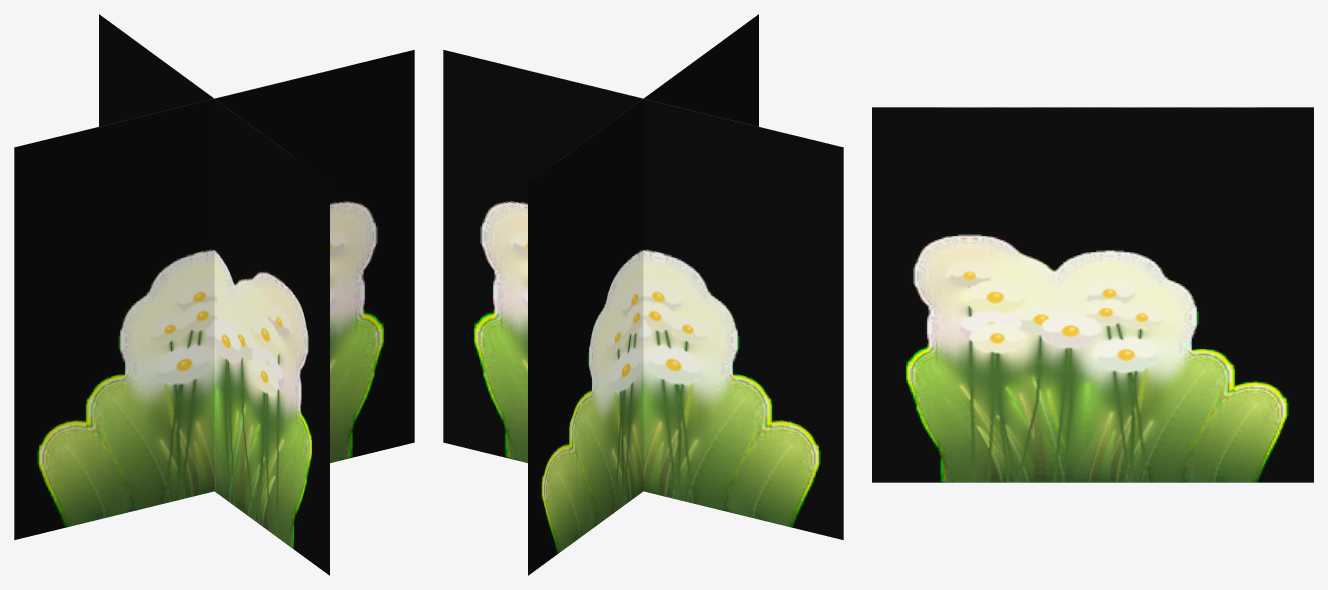
Rendered from daisies.glb.
3 views of the same model, side by side, from view 1: azimuth 30°, elevation 25°; view 2: azimuth 150°, elevation 25°; view 3: azimuth 270°, elevation 25° (orthographic). The views are drawn at different scales.
Visible parts, largest first — view 1: daisies_mesh; view 2: daisies_mesh; view 3: daisies_mesh.
Boxes of the visible parts, x1=… form: daisies_mesh: x1=14, y1=14, x2=414, y2=575; daisies_mesh: x1=443, y1=14, x2=843, y2=575; daisies_mesh: x1=872, y1=107, x2=1313, y2=482.
Bounding box in the file's own units: 0.8 × 0.75 × 0.8.
1 material, 1 textured.
